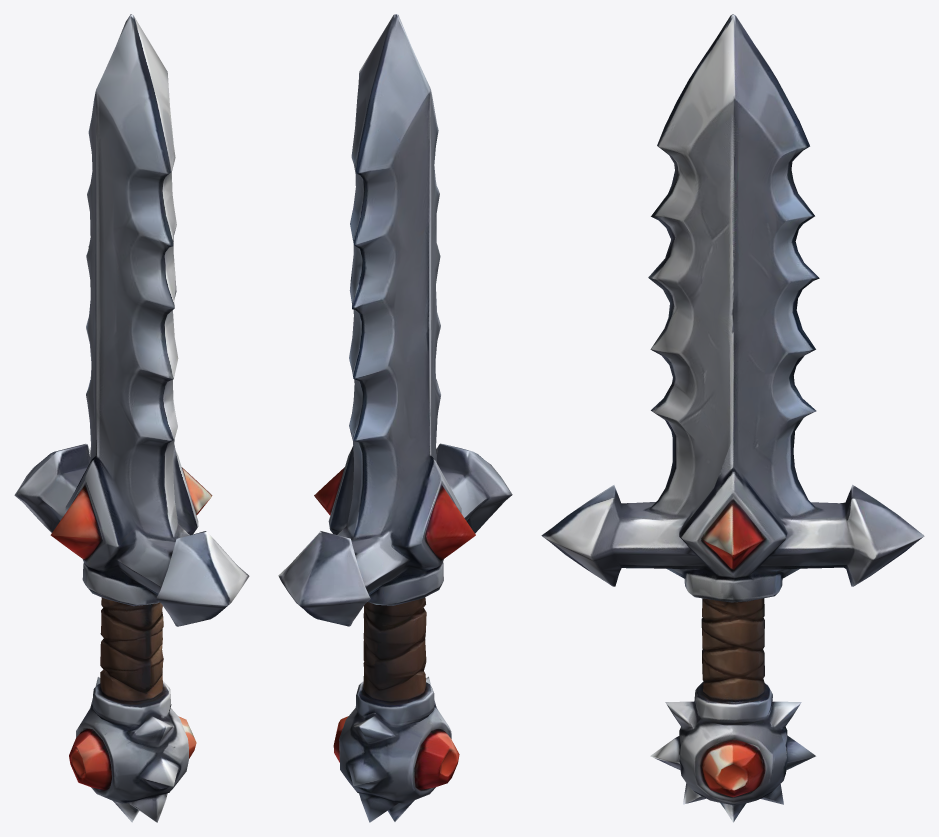
File: w_town_ember.glb
3 views of the same model, side by side, from view 1: azimuth 30°, elevation 25°; view 2: azimuth 150°, elevation 25°; view 3: azimuth 270°, elevation 25° (orthographic).
Parts seen in each view (by area): view 1: Weapon; view 2: Weapon; view 3: Weapon.
Part boxes in pixels (x1,y1,x2,y2): Weapon: (14, 14, 249, 822); Weapon: (278, 14, 512, 822); Weapon: (541, 14, 924, 822).
Bounding box in the file's own units: 0.2055 × 0.9797 × 0.4212.
Materials: 1 (1 with a texture image).
